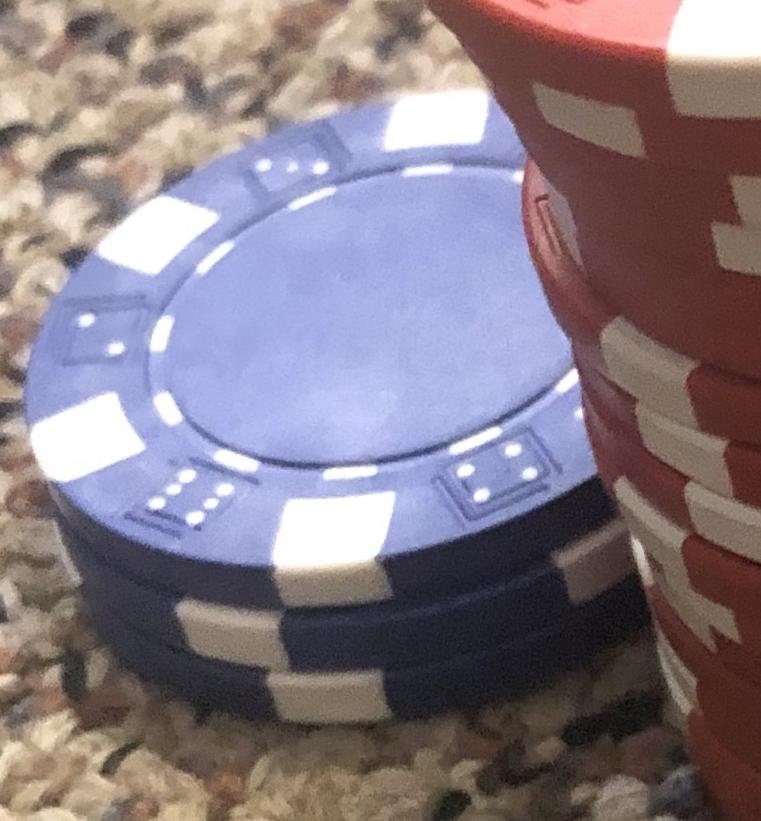Chip: (1, 1, 761, 821)
